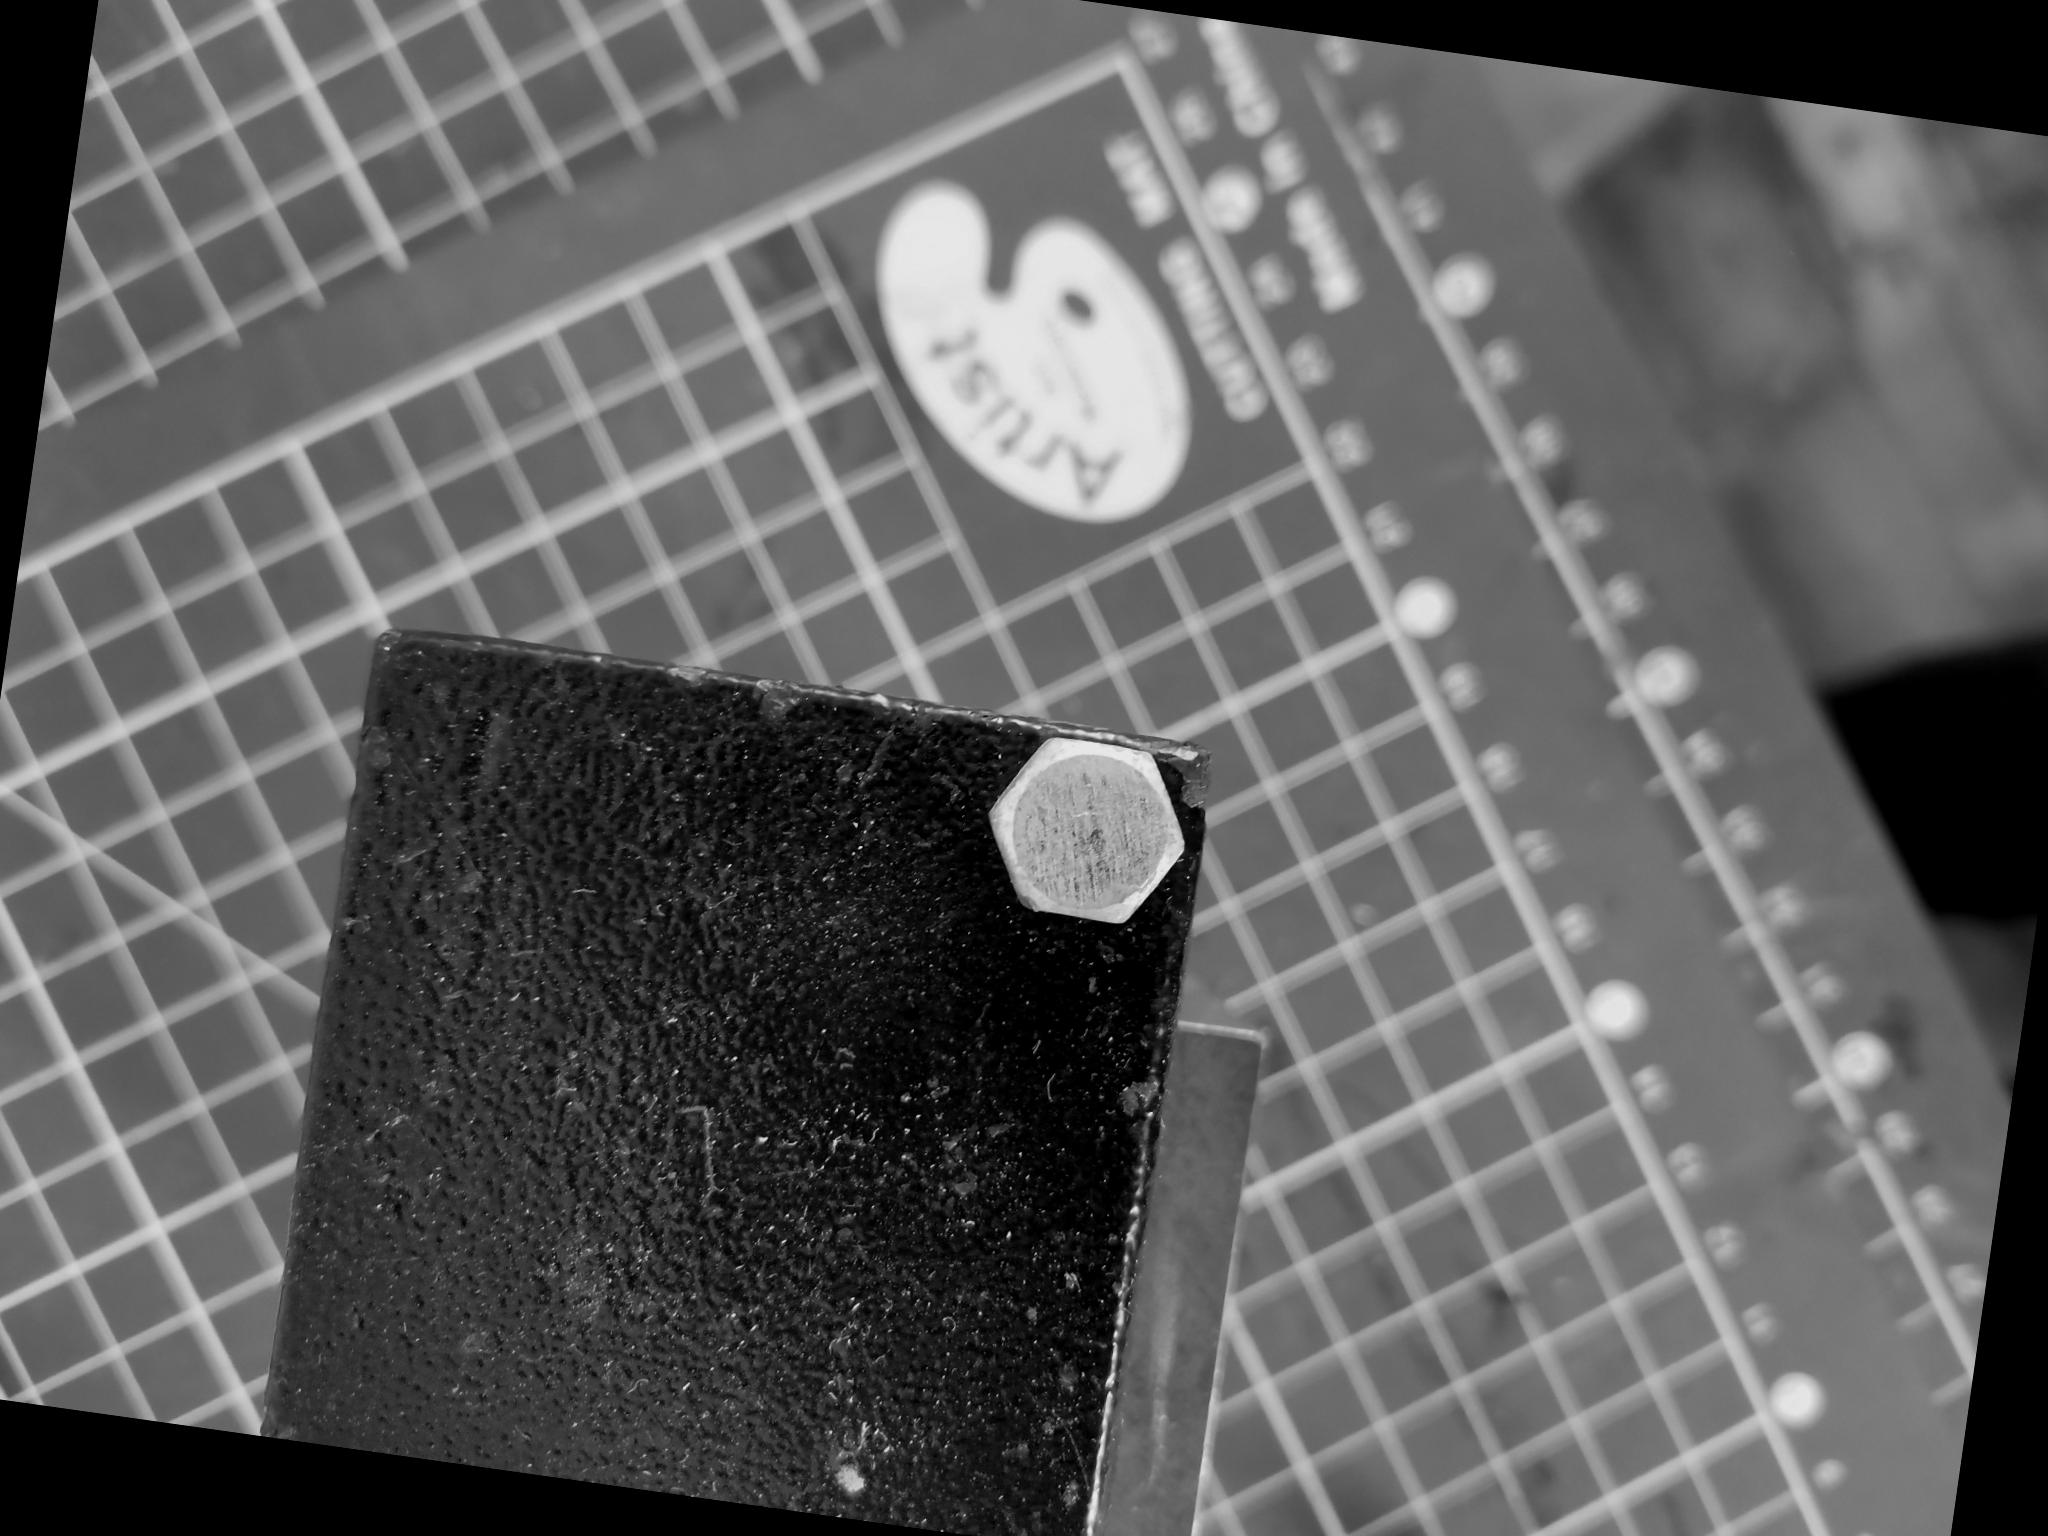screw: (963, 716, 1206, 949)
